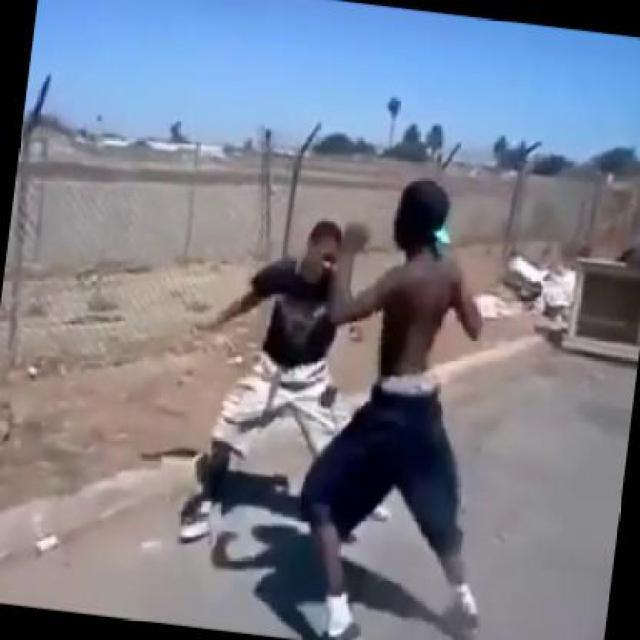fight: (168, 151, 530, 638)
